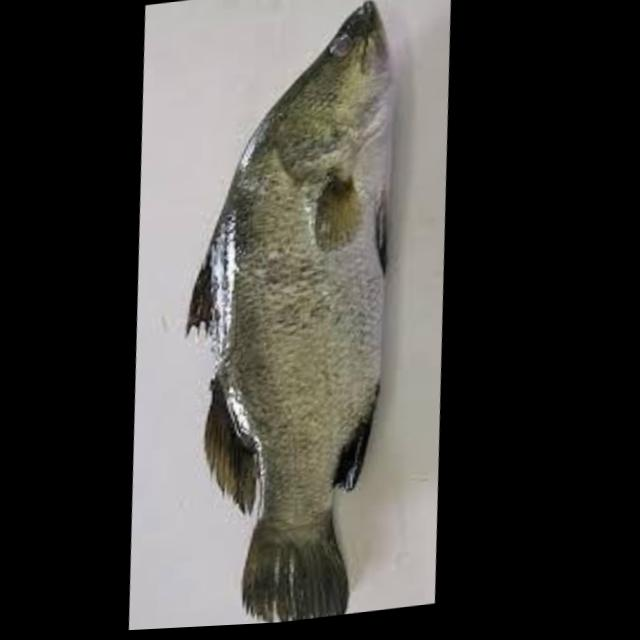Seabass: (132, 0, 443, 630)
